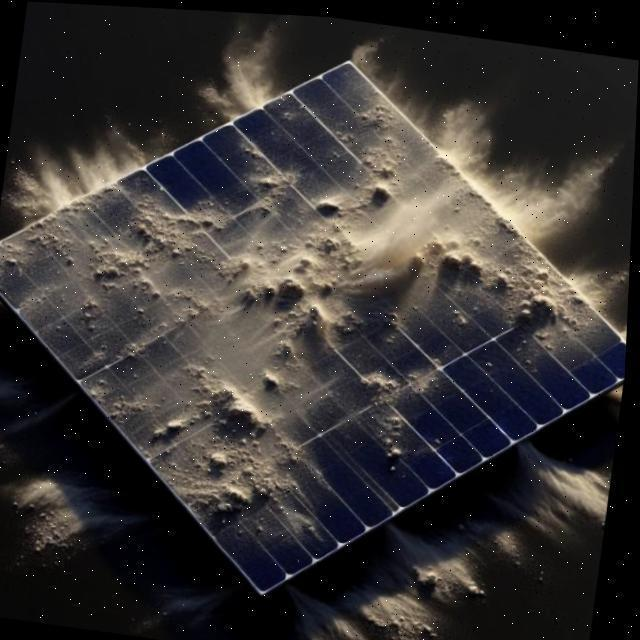Anomaly Solar Panel: (0, 10, 629, 640)
Surface Contaminant: (0, 10, 623, 619)
